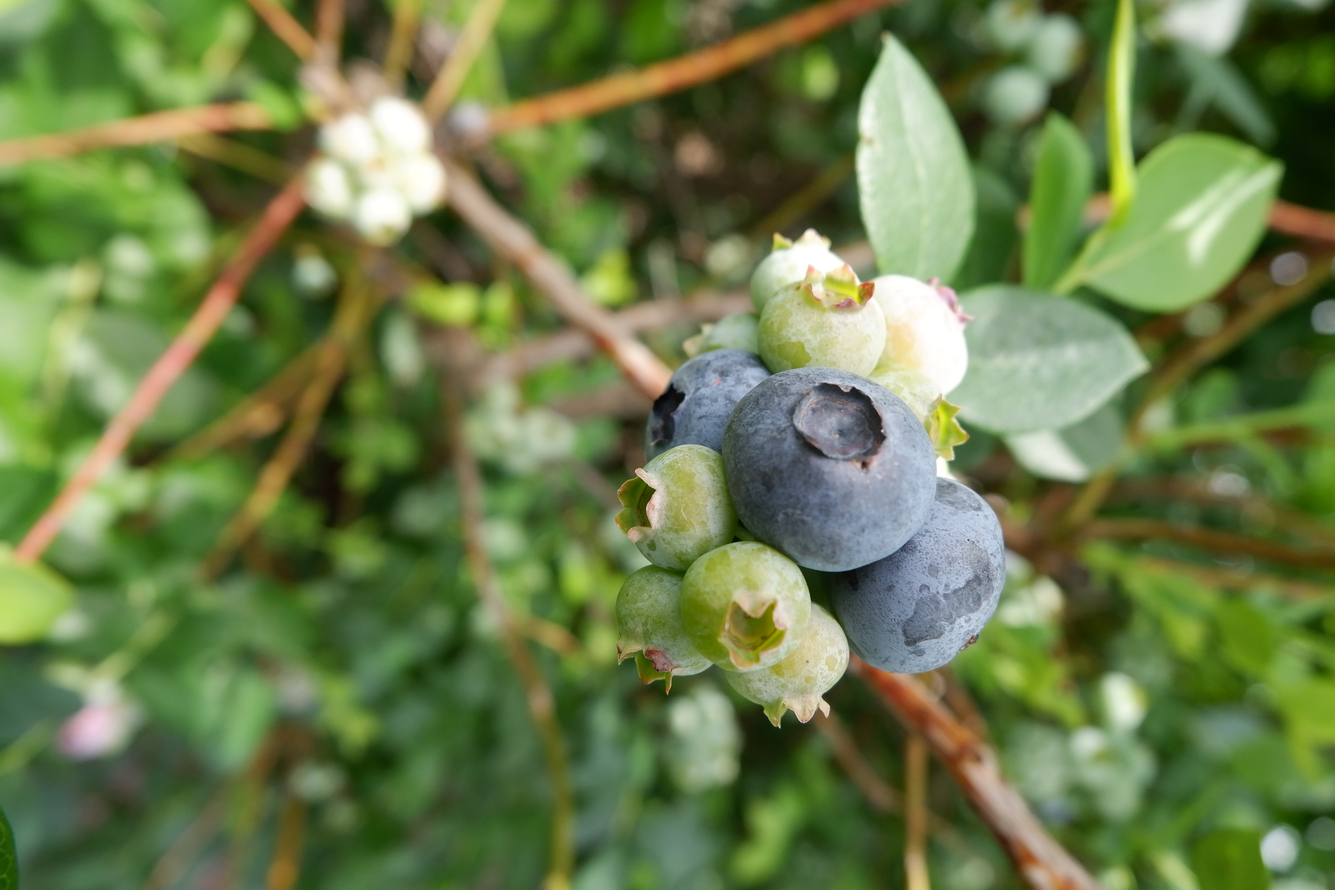Immature: (684, 546, 809, 666), (620, 448, 735, 570), (732, 605, 847, 724), (761, 273, 884, 373), (873, 277, 971, 394), (617, 568, 707, 679), (754, 231, 847, 311), (886, 377, 969, 461), (688, 315, 759, 354)
Mature: (725, 367, 933, 567), (833, 483, 1000, 672), (647, 351, 769, 456)
